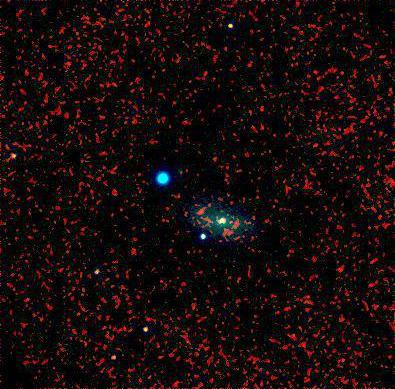star: (189, 198, 219, 228)
